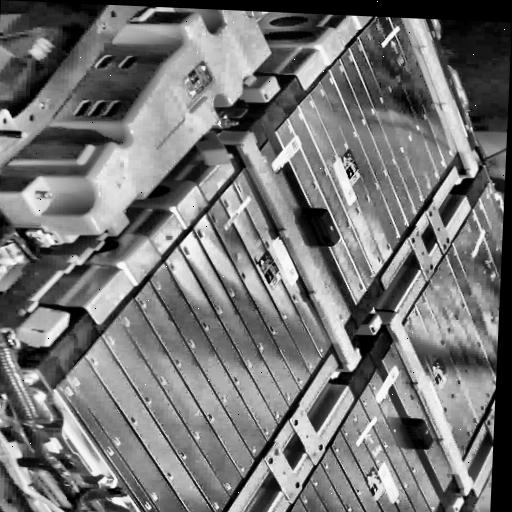battery_module: (53, 142, 351, 512), (274, 17, 467, 305), (379, 186, 503, 490)
busbar: (212, 130, 366, 382), (359, 308, 475, 512), (0, 211, 133, 348), (400, 18, 479, 184)
